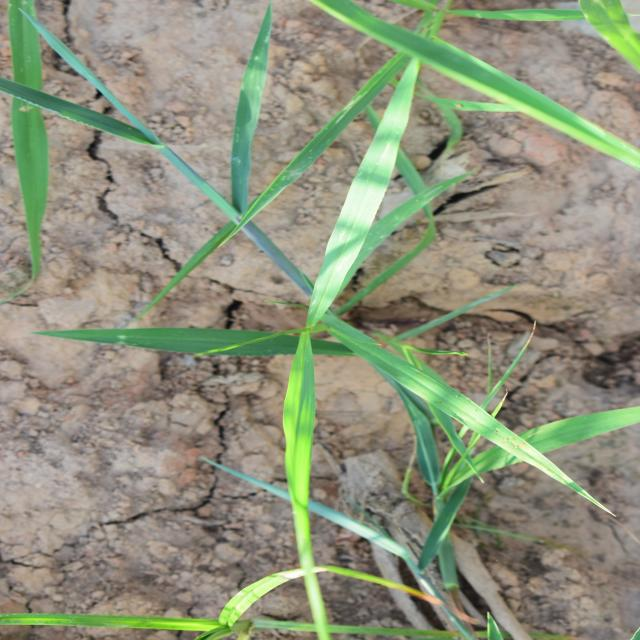green_foxtail: (64, 214, 515, 504)
